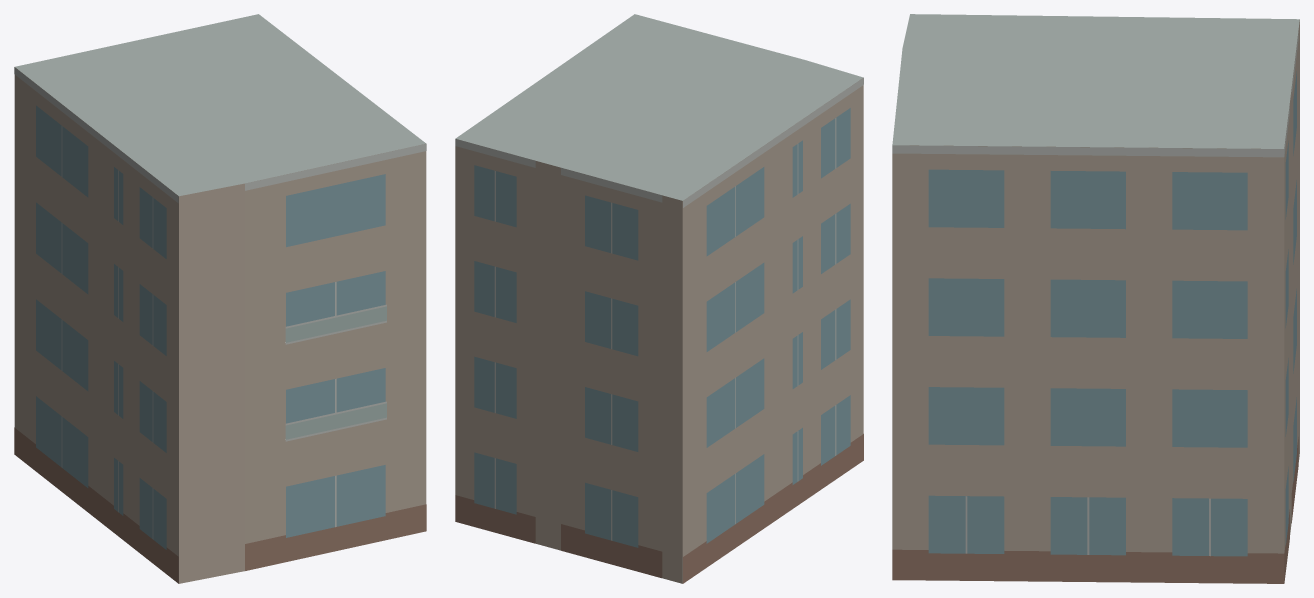
File: survey-upis-32653883.glb
3 views of the same model, side by side, from view 1: azimuth 30°, elevation 25°; view 2: azimuth 150°, elevation 25°; view 3: azimuth 270°, elevation 25° (orthographic). The views are drawn at different scales.
Visible parts, largest first — view 1: survey-upis-32653883.tmp; view 2: survey-upis-32653883.tmp; view 3: survey-upis-32653883.tmp.
Boxes of the visible parts, left/top/right/bottom form: survey-upis-32653883.tmp: left=14, top=14, right=426, bottom=583; survey-upis-32653883.tmp: left=455, top=14, right=863, bottom=583; survey-upis-32653883.tmp: left=892, top=14, right=1299, bottom=583.
Bounding box in the file's own units: 8.47 × 12.7 × 10.79.
